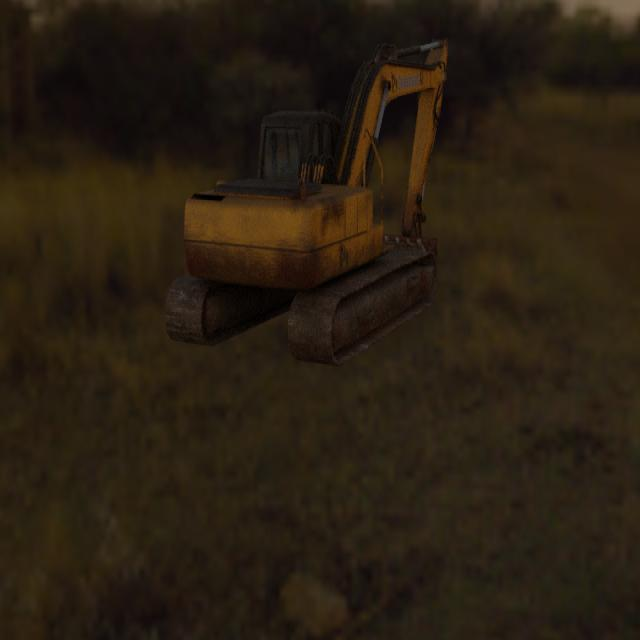excavator: (164, 37, 448, 367)
